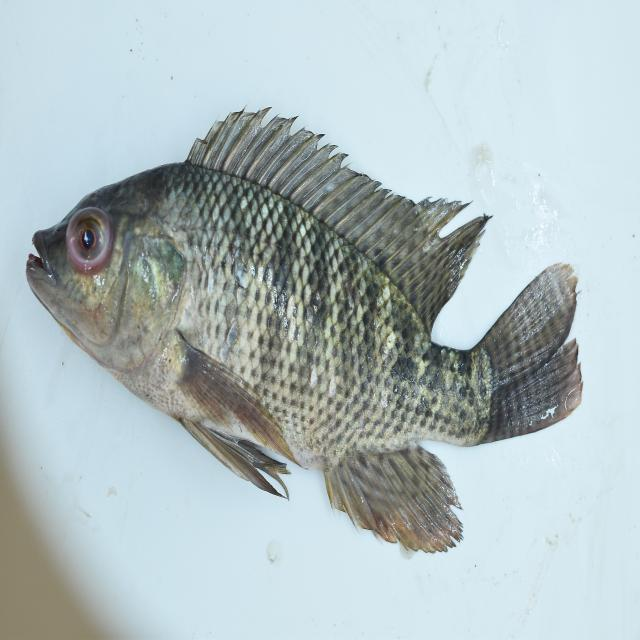Columnaris Disease: (8, 103, 602, 562)
